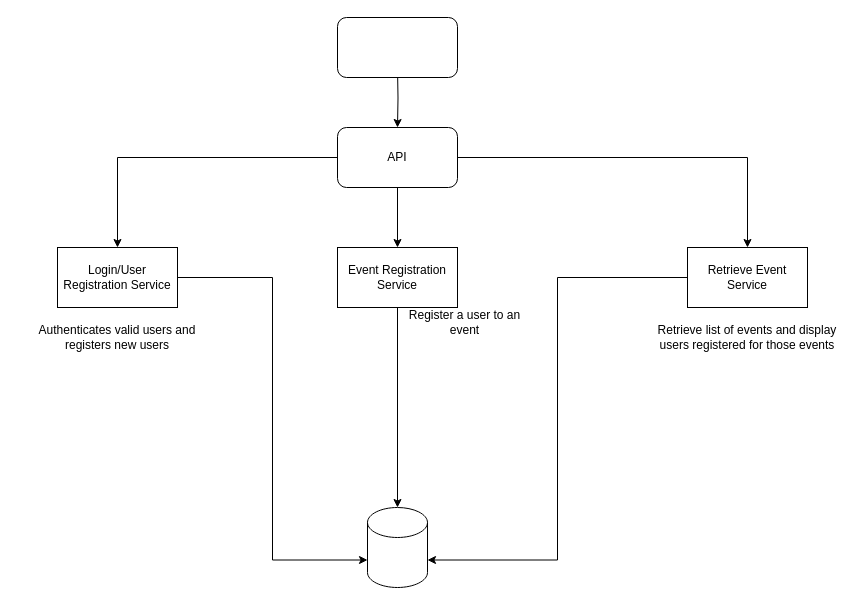
Some shapes in this 864 by 605 pixel diagram are drawn without their labels. The shapes that lost their labels are listed below. From the top down, each one's centre as x and y in pixels, then its label:
At (397,47): "frontend/ui".
At (397,547): "database".
